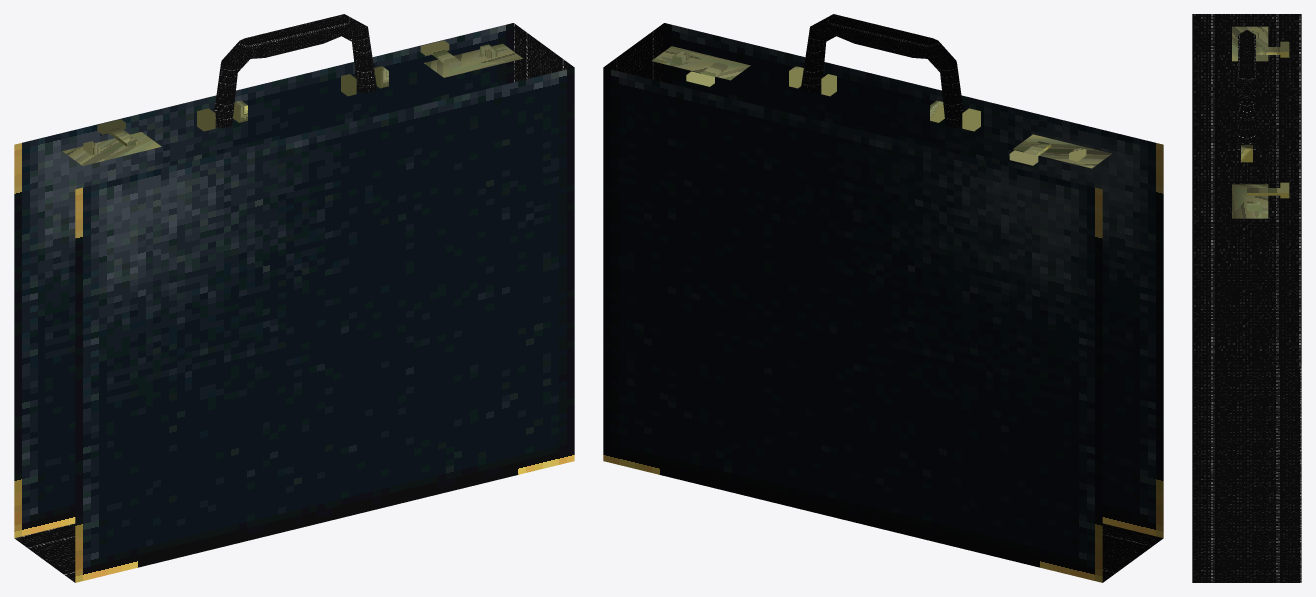
The model's file is GbombcaseZ.obj.
3 views of the same model, side by side, from view 1: azimuth 30°, elevation 25°; view 2: azimuth 150°, elevation 25°; view 3: azimuth 270°, elevation 25° (orthographic). The views are drawn at different scales.
Bounding box in the file's own units: 170 × 154 × 36.
7 materials, 7 textured.
